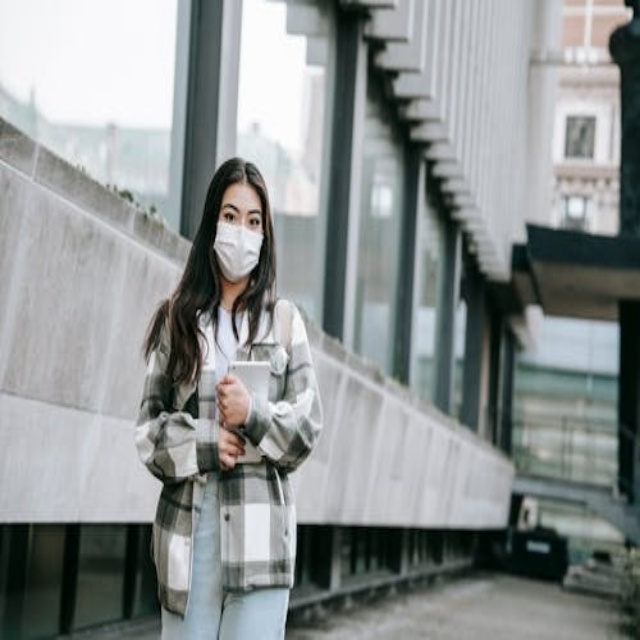Mascara: (212, 220, 264, 281)
Sin_gafas: (218, 198, 266, 234)
Sin_guantes: (214, 369, 252, 429), (216, 417, 245, 470)
